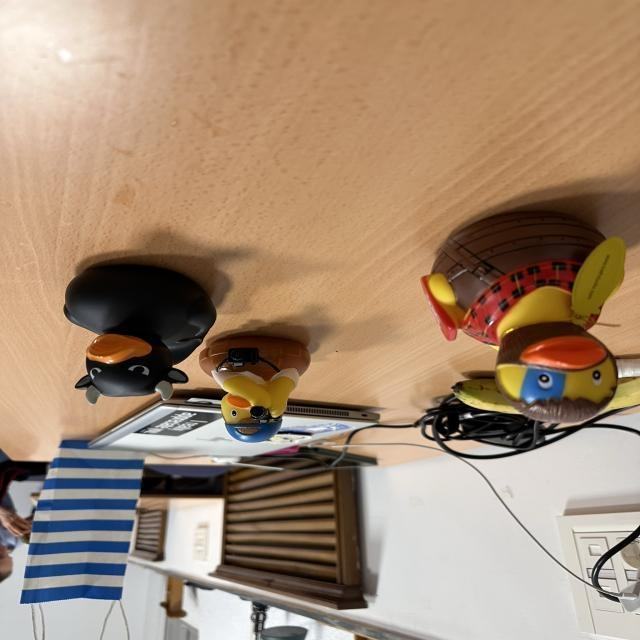rubber-duck: (421, 211, 623, 421), (63, 263, 214, 401), (198, 334, 308, 440)
